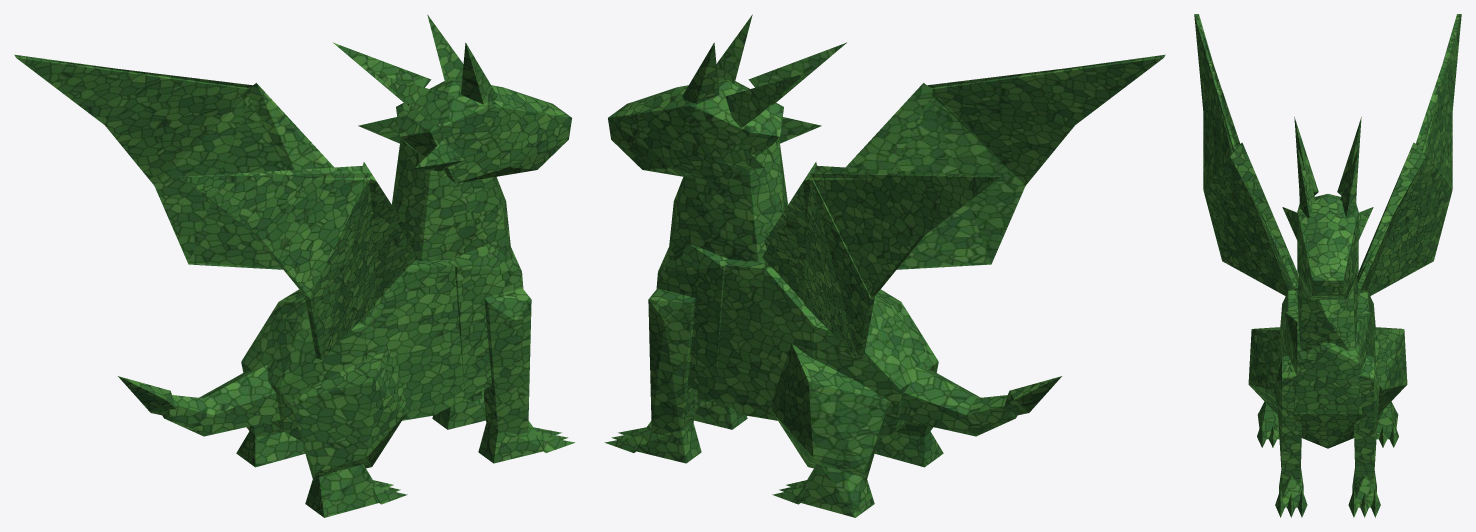
Rendered from dragon.glb.
3 views of the same model, side by side, from view 1: azimuth 30°, elevation 25°; view 2: azimuth 150°, elevation 25°; view 3: azimuth 270°, elevation 25° (orthographic). The views are drawn at different scales.
Parts seen in each view (by area): view 1: Dragon_Web; view 2: Dragon_Web; view 3: Dragon_Web.
Part boxes in pixels (left/top/right/bottom): Dragon_Web: left=14, top=14, right=574, bottom=517; Dragon_Web: left=605, top=14, right=1165, bottom=517; Dragon_Web: left=1194, top=14, right=1461, bottom=517.
Size of the model in its own units: 1.4 by 1.2 by 0.8754.
1 material, 1 textured.
